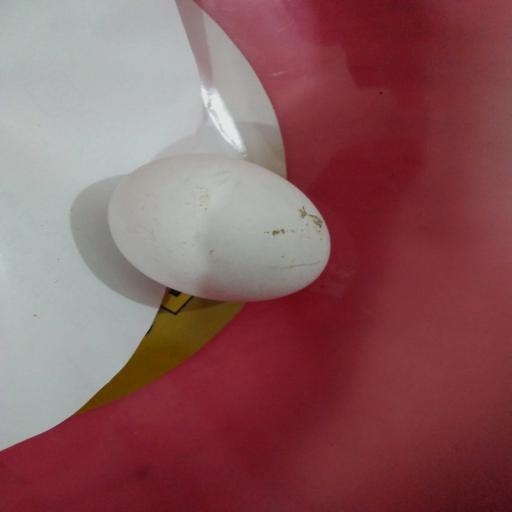telur: (82, 140, 347, 318)
